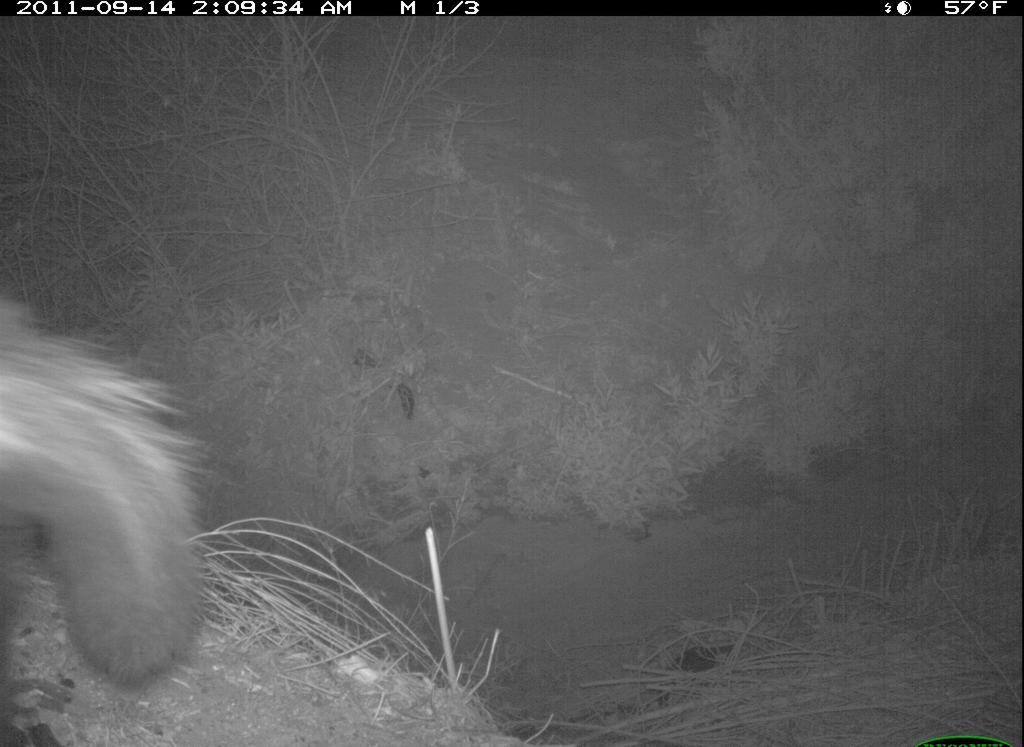skunk: (2, 282, 255, 697)
